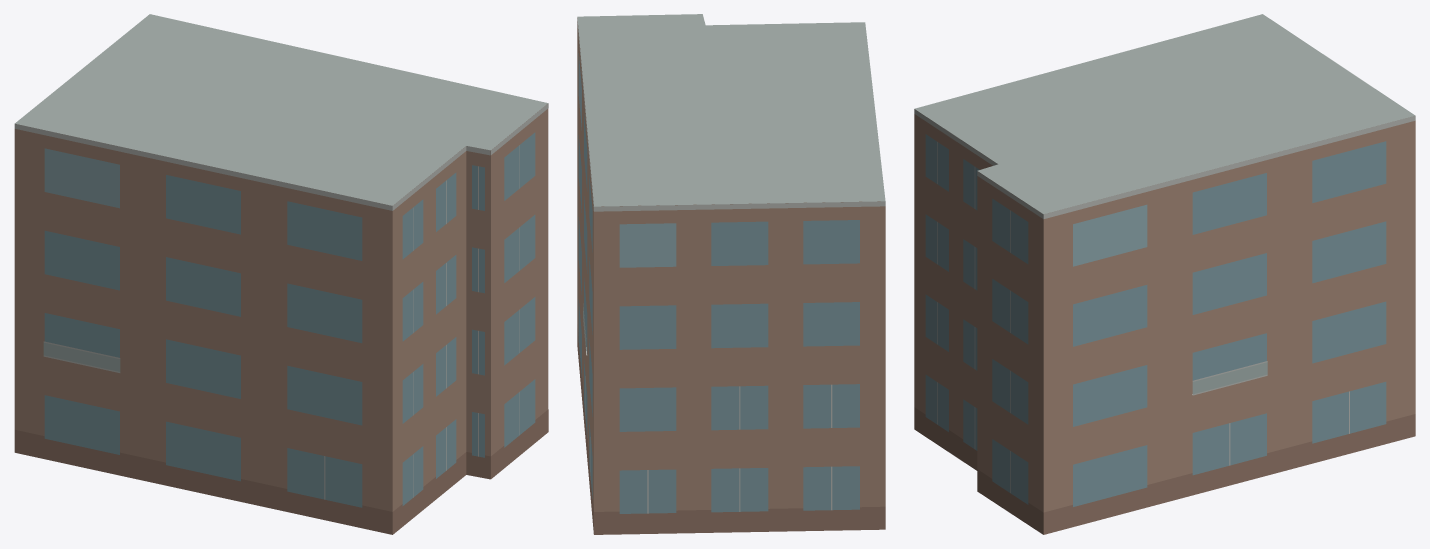
Rendered from survey-upis-32719680.glb.
3 renders of one model, left to right at view 1: azimuth 30°, elevation 25°; view 2: azimuth 150°, elevation 25°; view 3: azimuth 270°, elevation 25°, orthographic. The views are drawn at different scales.
Parts seen in each view (by area): view 1: survey-upis-32719680.tmp; view 2: survey-upis-32719680.tmp; view 3: survey-upis-32719680.tmp.
Boxes of the visible parts, <box> form: survey-upis-32719680.tmp: <box>14,14,548,534</box>; survey-upis-32719680.tmp: <box>577,14,885,534</box>; survey-upis-32719680.tmp: <box>914,14,1415,534</box>.
Bounding box in the file's own units: 21.18 × 15.8 × 22.41.
